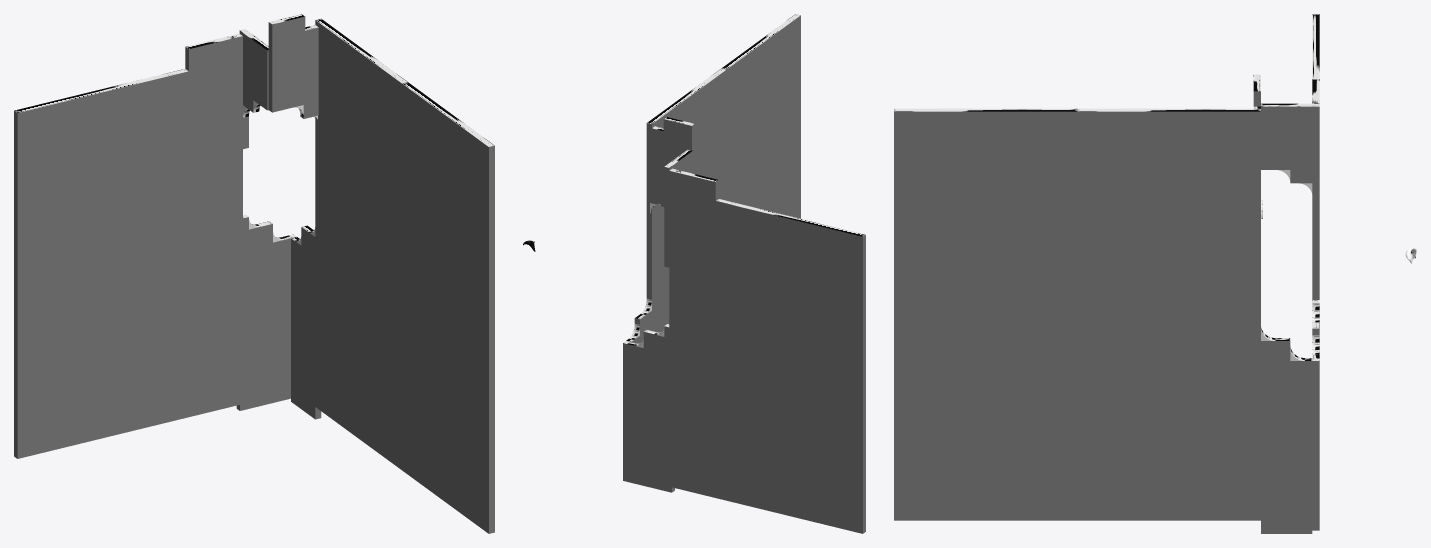
Rendered from Phase 1 & 2 - Foliage BG timeline.fbx.
3 views of the same model, side by side, from view 1: azimuth 30°, elevation 25°; view 2: azimuth 150°, elevation 25°; view 3: azimuth 270°, elevation 25° (orthographic). The views are drawn at different scales.
Visible parts, largest first — view 1: Whitebox_cube (3), Whitebox_cube (10), Whitebox_cube (32), Whitebox_cube (4), Whitebox_cube (20), Whitebox_cube (31), Whitebox_cube (28), Whitebox_cube (6), Whitebox_cube (30), Whitebox_cube (29), Whitebox_cube (09), Whitebox_cube (22) (+10 smaller); view 2: Whitebox_cube (3), Whitebox_cube (10), Whitebox_cube (20), Whitebox_cube (1), Whitebox_cube (31), Whitebox_cube (29), Whitebox_cube (30), Whitebox_cube (09), Whitebox_cube (28), Whitebox_cube (7), Whitebox_cube (24), Whitebox_cube (23) (+7 smaller); view 3: Whitebox_cube (4), Whitebox_cube (32), Whitebox_cube (31), Whitebox_cube (28), Whitebox_cube (6), Whitebox_cube (29), Whitebox_cube (23), Whitebox_cube (22), Whitebox_cube (24), Whitebox_cube (09), Whitebox_cube (30), Whitebox_cube (+7 smaller).
Boxes of the visible parts, x1=… form: Whitebox_cube (3): x1=14, y1=221, x2=272, y2=458; Whitebox_cube (10): x1=14, y1=69, x2=188, y2=285; Whitebox_cube (32): x1=402, y1=301, x2=494, y2=533; Whitebox_cube (4): x1=315, y1=237, x2=401, y2=469; Whitebox_cube (20): x1=185, y1=33, x2=242, y2=243; Whitebox_cube (31): x1=402, y1=82, x2=494, y2=190; Whitebox_cube (28): x1=315, y1=18, x2=407, y2=127; Whitebox_cube (6): x1=291, y1=237, x2=321, y2=419; Whitebox_cube (30): x1=402, y1=128, x2=494, y2=234; Whitebox_cube (29): x1=402, y1=172, x2=494, y2=278; Whitebox_cube (09): x1=402, y1=216, x2=494, y2=322; Whitebox_cube (22): x1=315, y1=152, x2=401, y2=259; Whitebox_cube (3): x1=643, y1=329, x2=865, y2=533; Whitebox_cube (10): x1=715, y1=199, x2=865, y2=385; Whitebox_cube (20): x1=669, y1=168, x2=718, y2=349; Whitebox_cube (1): x1=633, y1=345, x2=674, y2=492; Whitebox_cube (31): x1=721, y1=14, x2=800, y2=107; Whitebox_cube (29): x1=726, y1=91, x2=800, y2=182; Whitebox_cube (30): x1=726, y1=53, x2=800, y2=144; Whitebox_cube (09): x1=726, y1=129, x2=800, y2=205; Whitebox_cube (28): x1=646, y1=68, x2=726, y2=161; Whitebox_cube (7): x1=623, y1=341, x2=635, y2=483; Whitebox_cube (24): x1=646, y1=108, x2=726, y2=199; Whitebox_cube (23): x1=646, y1=146, x2=726, y2=237; Whitebox_cube (4): x1=1077, y1=341, x2=1260, y2=520; Whitebox_cube (32): x1=894, y1=341, x2=1077, y2=520; Whitebox_cube (31): x1=894, y1=108, x2=1077, y2=158; Whitebox_cube (28): x1=1077, y1=108, x2=1260, y2=158; Whitebox_cube (6): x1=1261, y1=358, x2=1312, y2=533; Whitebox_cube (29): x1=894, y1=204, x2=1077, y2=251; Whitebox_cube (23): x1=1077, y1=204, x2=1260, y2=251; Whitebox_cube (22): x1=1077, y1=251, x2=1260, y2=297; Whitebox_cube (24): x1=1077, y1=158, x2=1260, y2=204; Whitebox_cube (09): x1=894, y1=251, x2=1077, y2=297; Whitebox_cube (30): x1=894, y1=158, x2=1077, y2=204; Whitebox_cube: x1=1077, y1=298, x2=1260, y2=340.
Size of what is drawn, in the model's own units: 58.57 by 65 by 71.25.
